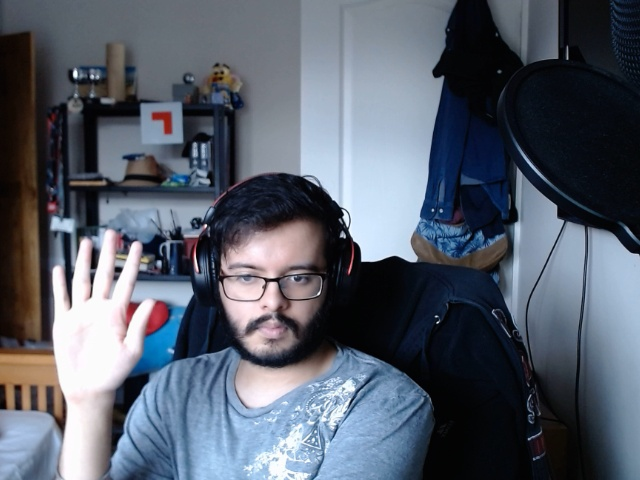Hello: (39, 217, 156, 413)
